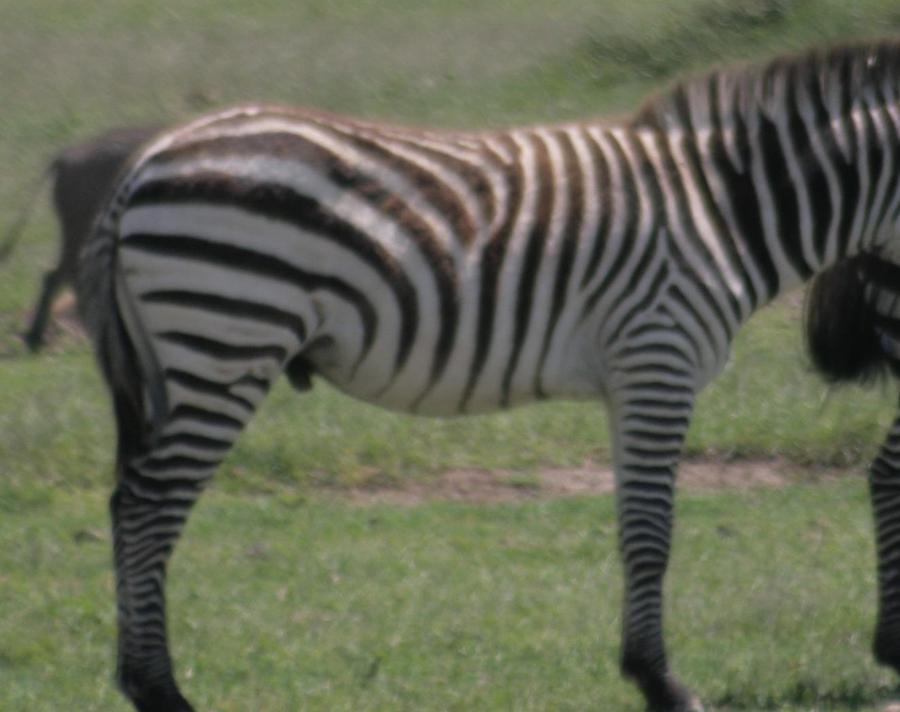zebra_plains: (99, 61, 761, 454)
